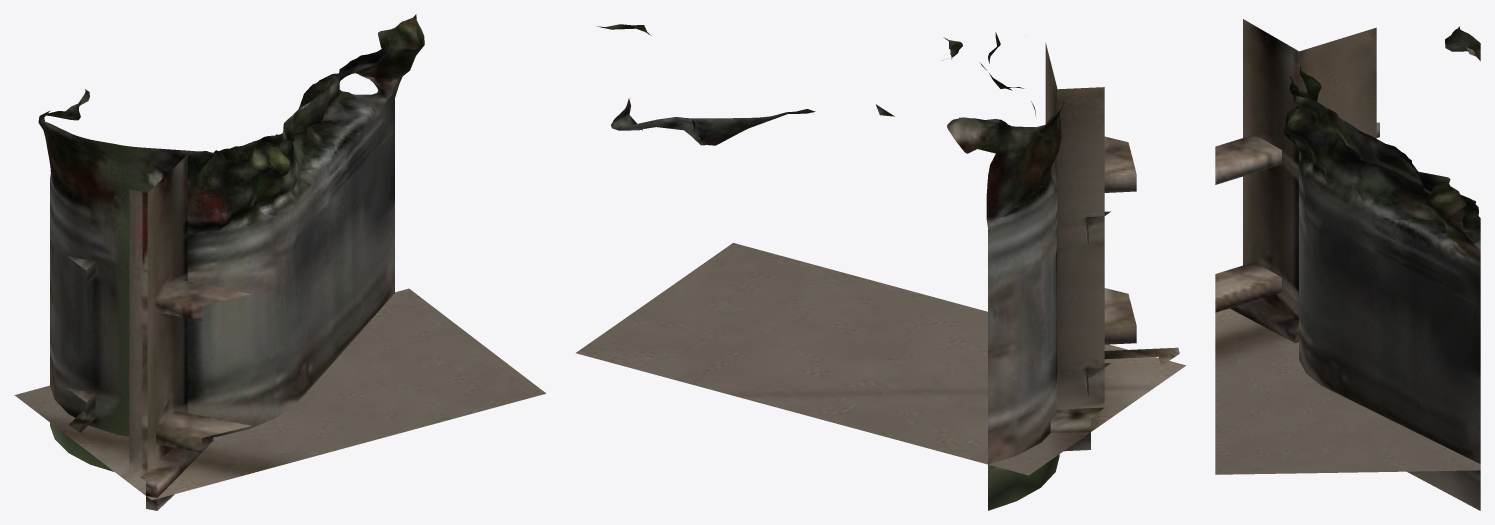
3 renders of one model, left to right at view 1: azimuth 30°, elevation 25°; view 2: azimuth 150°, elevation 25°; view 3: azimuth 270°, elevation 25°, orthographic. The views are drawn at different scales.
Size of the model in its own units: 1.2 by 0.9558 by 0.7226.
1 material, 1 textured.
